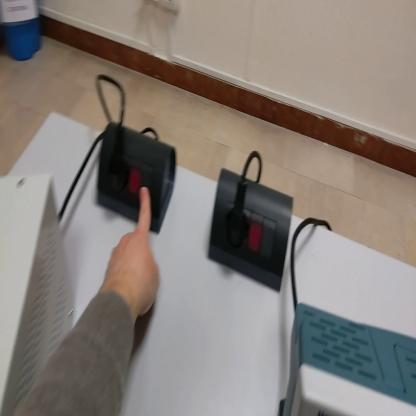hand: (103, 187, 161, 321)
oscilloscope: (284, 304, 416, 415)
power supply: (1, 178, 75, 416)
socket: (207, 166, 294, 294), (97, 122, 182, 232)
